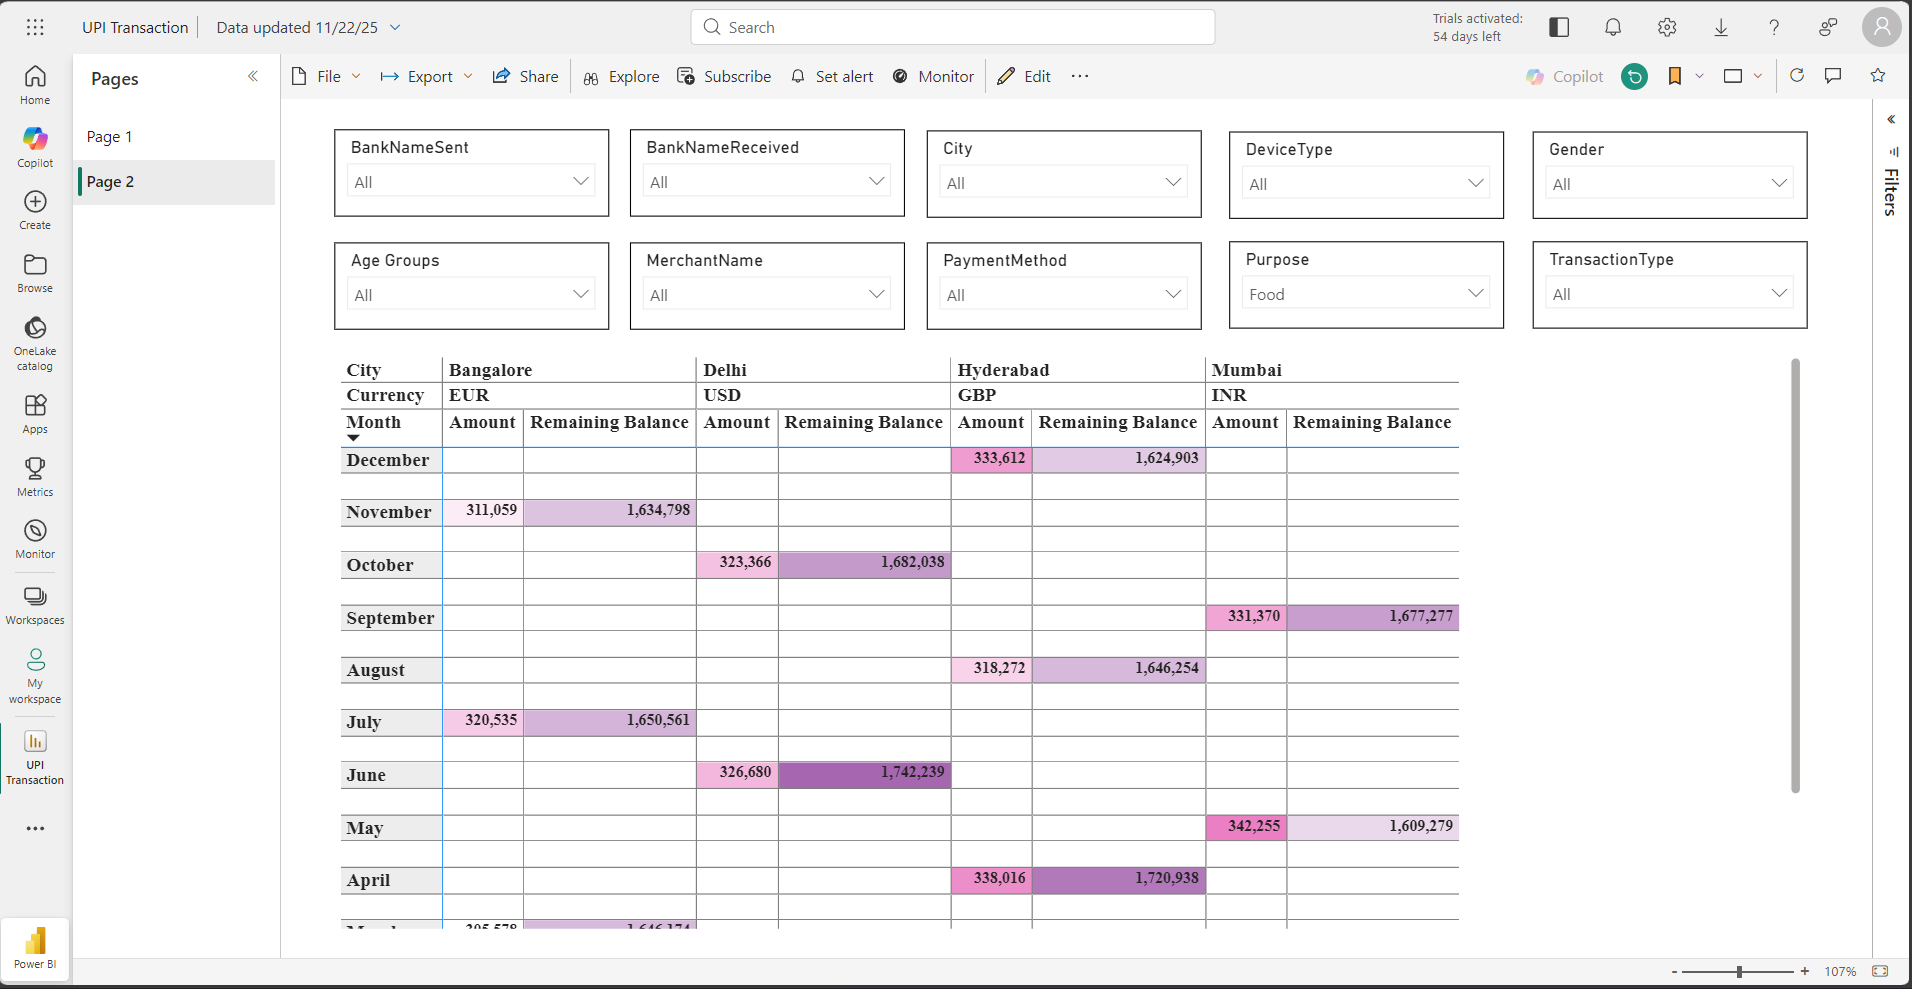

The dashboard page shown, as its layout file describes it:
{"tool":"powerbi","page":{"name":"Page 2","canvas":[1280,720],"ordinal":1},"visuals":[{"type":"slicer","fields":{"Values":["UPI Transaction.BankNameSent"]},"box":[18,25,230.1,73],"z":0},{"type":"slicer","fields":{"Values":["UPI Transaction.BankNameReceived"]},"box":[265.1,25,230.1,73],"z":1000},{"type":"slicer","fields":{"Values":["UPI Transaction.City"]},"box":[514.2,26,230.1,73],"z":2000},{"type":"slicer","fields":{"Values":["UPI Transaction.DeviceType"]},"box":[767.2,27,230.1,73],"z":3000},{"type":"slicer","fields":{"Values":["UPI Transaction.Gender"]},"box":[1021.3,27,230.1,73],"z":4000},{"type":"slicer","fields":{"Values":["UPI Transaction.Age Groups"]},"box":[18,120,230.1,73],"z":5000},{"type":"slicer","fields":{"Values":["UPI Transaction.MerchantName"]},"box":[265.1,120,230.1,73],"z":6000},{"type":"slicer","fields":{"Values":["UPI Transaction.PaymentMethod"]},"box":[514.2,120,230.1,73],"z":7000},{"type":"slicer","fields":{"Values":["UPI Transaction.Purpose"]},"box":[767.2,119,230.1,73],"z":8000},{"type":"slicer","fields":{"Values":["UPI Transaction.TransactionType"]},"box":[1021.3,119,230.1,73],"z":9000},{"type":"pivotTable","fields":{"Values":["Sum(UPI Transaction.Amount)","Sum(UPI Transaction.RemainingBalance)"],"Rows":["UPI Transaction.TransactionDate.Variation.Date Hierarchy.Month"],"Columns":["UPI Transaction.City","UPI Transaction.Currency"]},"box":[18,211.1,1233.4,489.1],"z":10000}]}

Visuals, with their boxes on the page's 1280x720 design canvas (x1, y1, x2, y2). These are canvas units, not pixel positions in the 1912x989 screenshot, which may show the page scaled, cropped or inside an application window:
slicer - UPI Transaction.BankNameSent: x1=18, y1=25, x2=248, y2=98
slicer - UPI Transaction.BankNameReceived: x1=265, y1=25, x2=495, y2=98
slicer - UPI Transaction.City: x1=514, y1=26, x2=744, y2=99
slicer - UPI Transaction.DeviceType: x1=767, y1=27, x2=997, y2=100
slicer - UPI Transaction.Gender: x1=1021, y1=27, x2=1251, y2=100
slicer - UPI Transaction.Age Groups: x1=18, y1=120, x2=248, y2=193
slicer - UPI Transaction.MerchantName: x1=265, y1=120, x2=495, y2=193
slicer - UPI Transaction.PaymentMethod: x1=514, y1=120, x2=744, y2=193
slicer - UPI Transaction.Purpose: x1=767, y1=119, x2=997, y2=192
slicer - UPI Transaction.TransactionType: x1=1021, y1=119, x2=1251, y2=192
pivotTable - Sum(UPI Transaction.Amount) x Sum(UPI Transaction.RemainingBalance): x1=18, y1=211, x2=1251, y2=700
